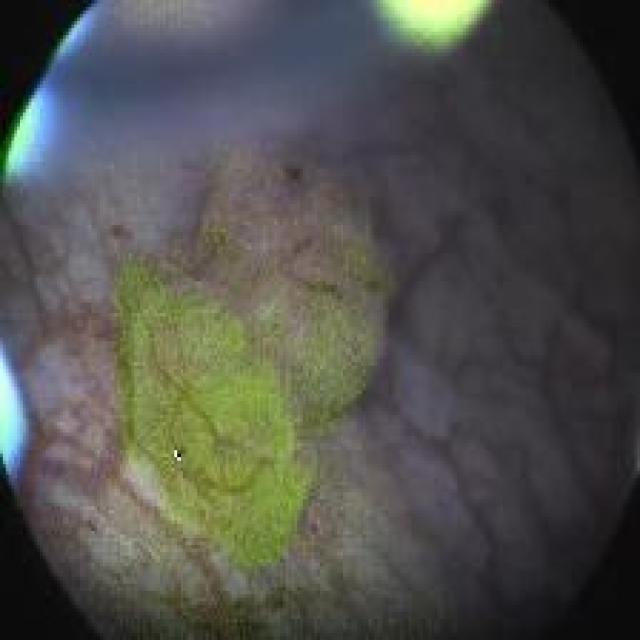color misalignment: (7, 5, 502, 177), (372, 9, 492, 55), (0, 348, 29, 486), (5, 85, 46, 166), (58, 5, 99, 53)
